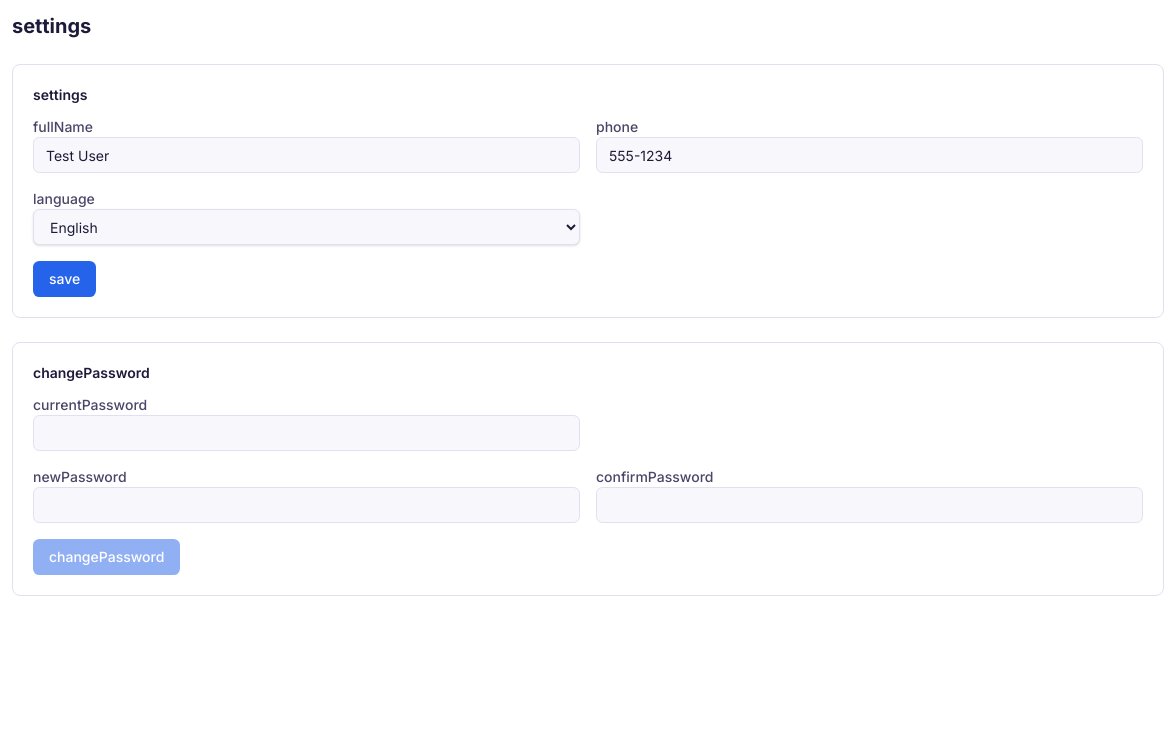
Test case: SettingsPage › shows success message after profile save
The width and height of the screenshot is (1164, 732).
Expected: the field below "fullName" holds "Test User", [33,137,580,173]
What coordinates should you click on to do the following:
click the button "save"
I would click on:
 (65, 279)
Its box is [33,261,96,297].
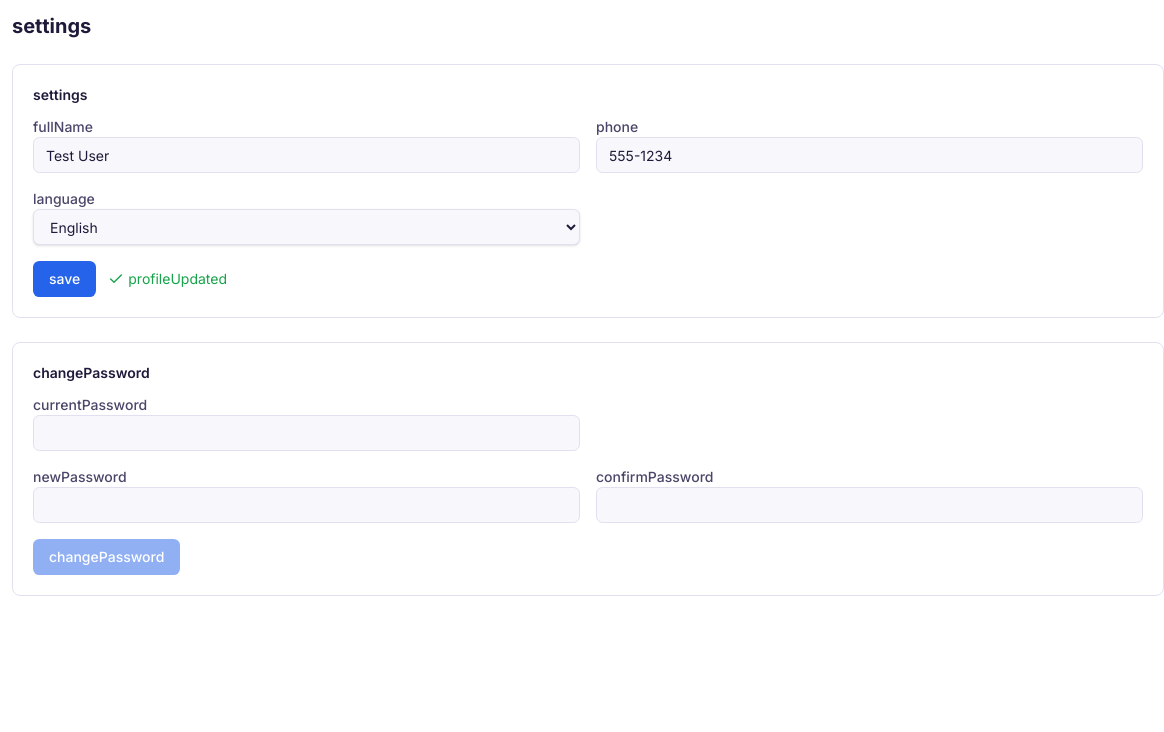
Expected: the text "profileUpdated" is shown, [108,269,227,289]
